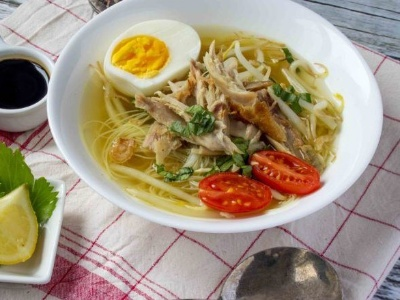soto: (103, 22, 333, 192)
